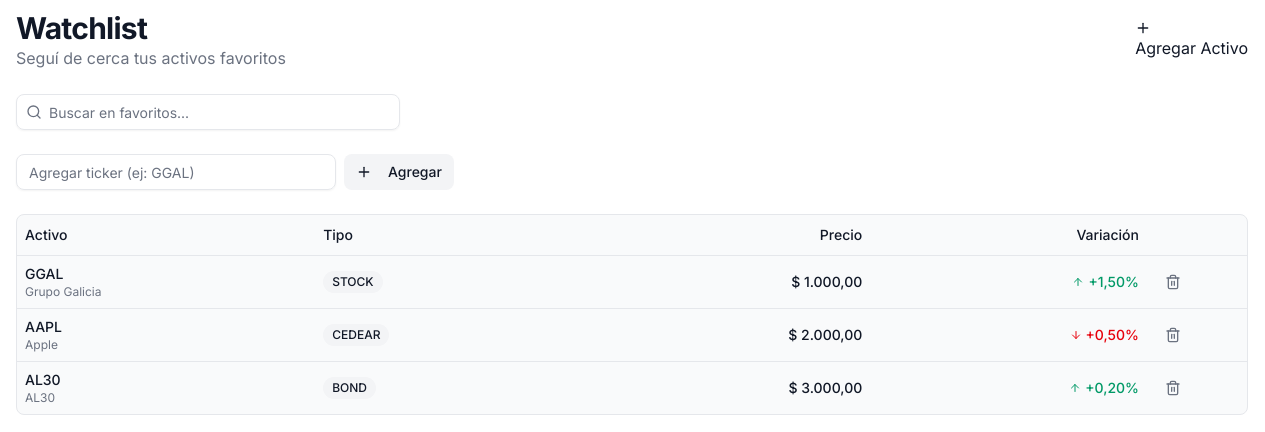
Scenario: WatchlistPage › filters items by search term
Step 1. Type "AAPL" into the field with placeholder "Buscar en favoritos..." → {"x": 208, "y": 112}, box [16,94,400,130]
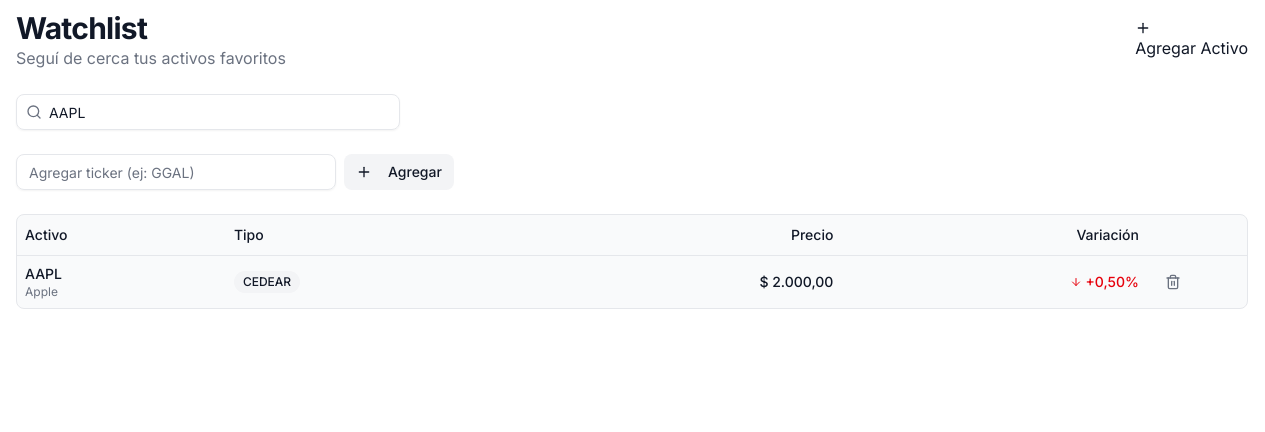
Check: the text "AAPL" is shown, box [25,264,62,282]
Check: the text "AL30" is gone
